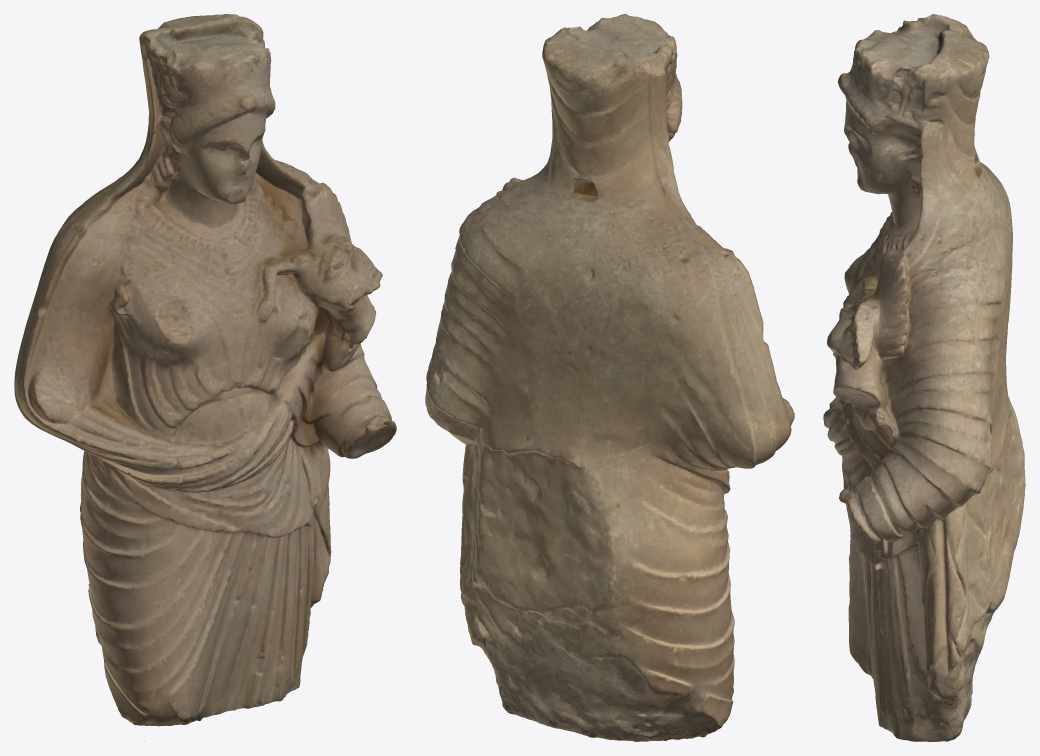
File: preview.glb
3 views of the same model, side by side, from view 1: azimuth 30°, elevation 25°; view 2: azimuth 150°, elevation 25°; view 3: azimuth 270°, elevation 25° (orthographic). The views are drawn at different scales.
Visible parts, largest first — view 1: _n3d; view 2: _n3d; view 3: _n3d.
Boxes of the visible parts, left/top/right/bottom form: _n3d: left=14, top=14, right=396, bottom=741; _n3d: left=425, top=14, right=794, bottom=741; _n3d: left=823, top=14, right=1025, bottom=741.
Bounding box in the file's own units: 0.6762 × 1.27 × 0.3523.
Materials: 1 (1 with a texture image).
